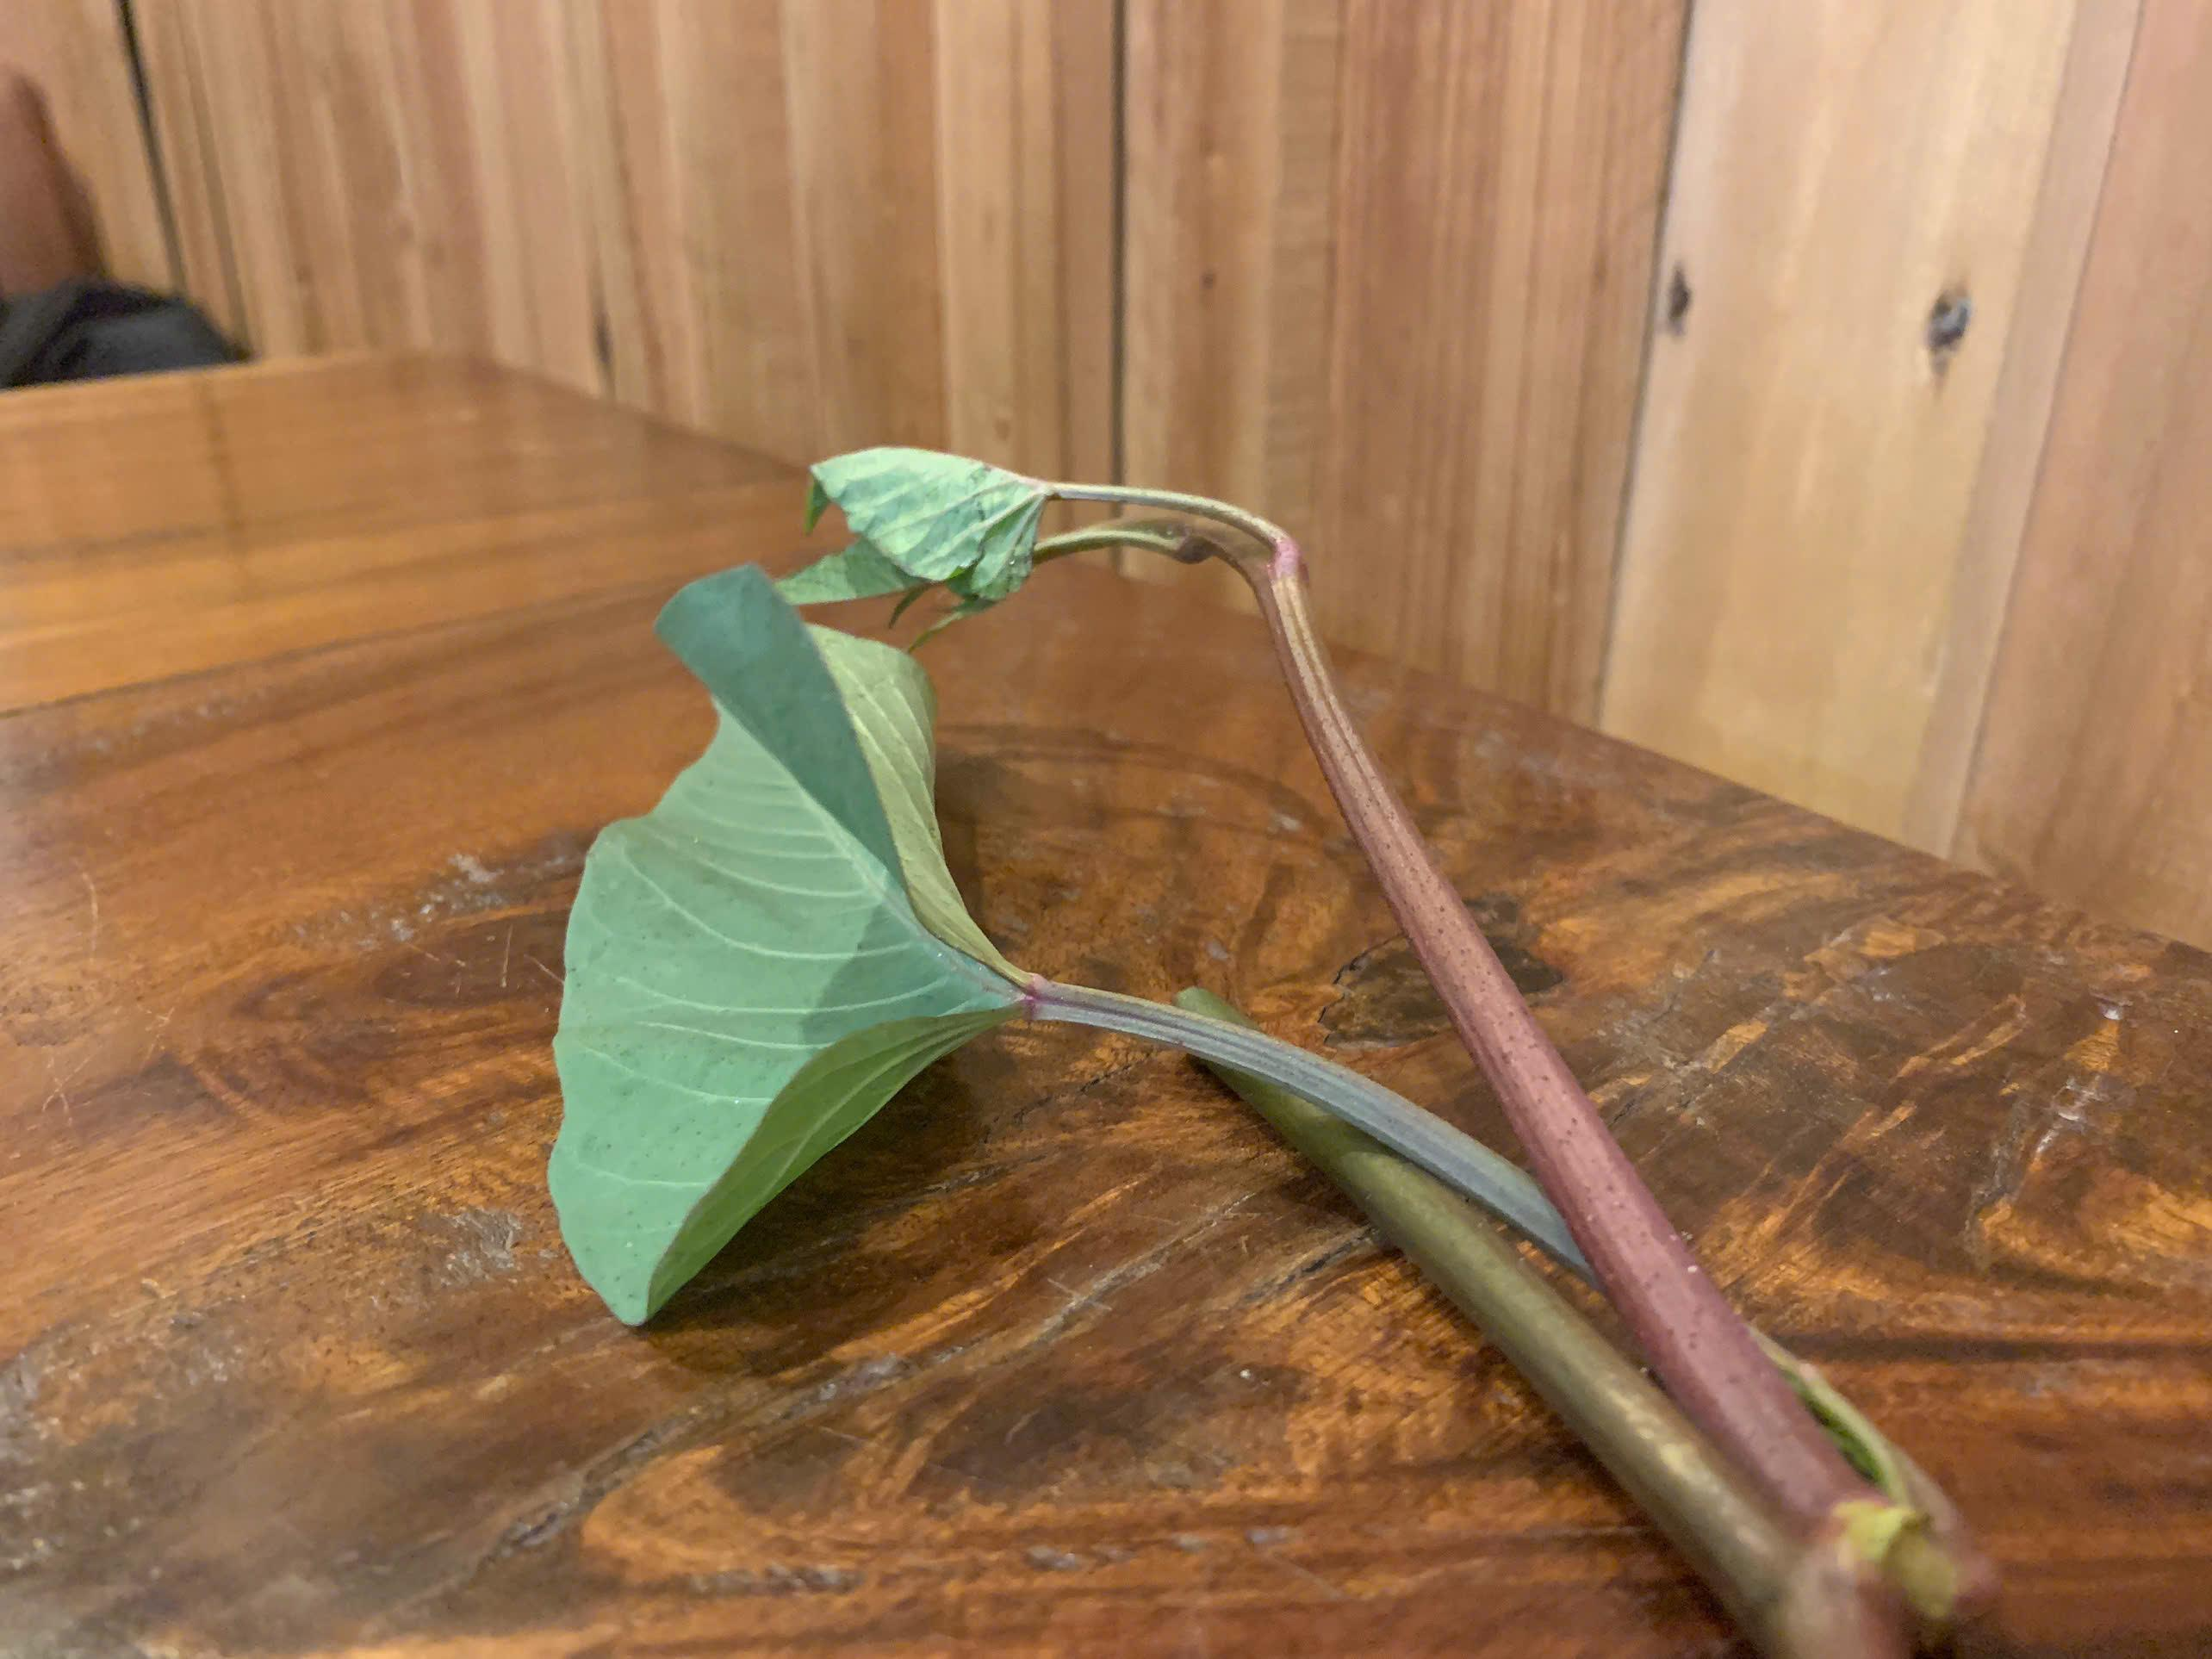Huu co: (554, 446, 1982, 1621)
